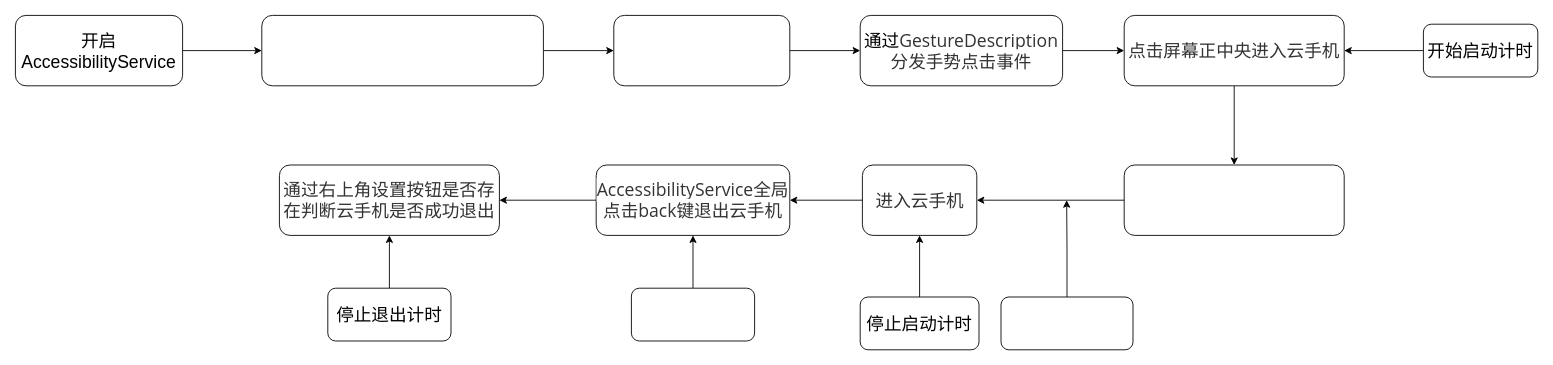
Some shapes in this 1553 by 365 pixel diagram are drawn without their labels. Each missing label, with the centre of its shape:
"开始退出计时" belongs at [693,314].
"检测是否为指定机型" belongs at [701,50].
"获取机型名称结点信息（ com.redfinger.app:id/tv_purchase ）" belongs at [402,50].
"超过指定时间则判断为进入失败" belongs at [1066,323].
"通过右上角设置按钮是否存在判断云手机是否成功进入" belongs at [1233,199].
